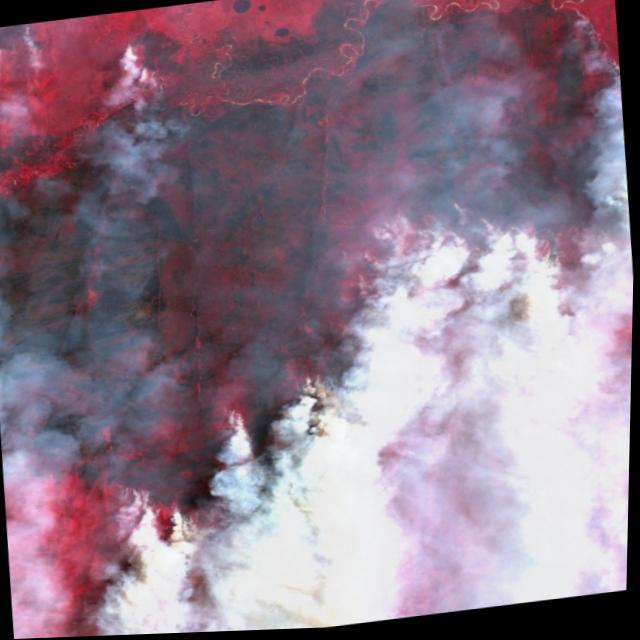fire: (345, 192, 550, 298), (107, 479, 206, 549), (545, 7, 622, 95), (0, 22, 51, 108), (100, 32, 170, 89), (282, 370, 340, 417), (215, 403, 254, 434)
